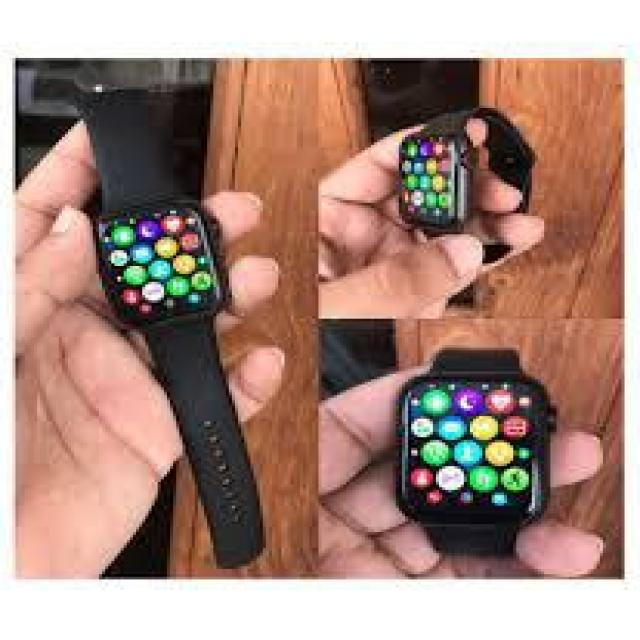watch: (58, 86, 286, 560), (374, 339, 565, 573), (401, 92, 564, 266)
